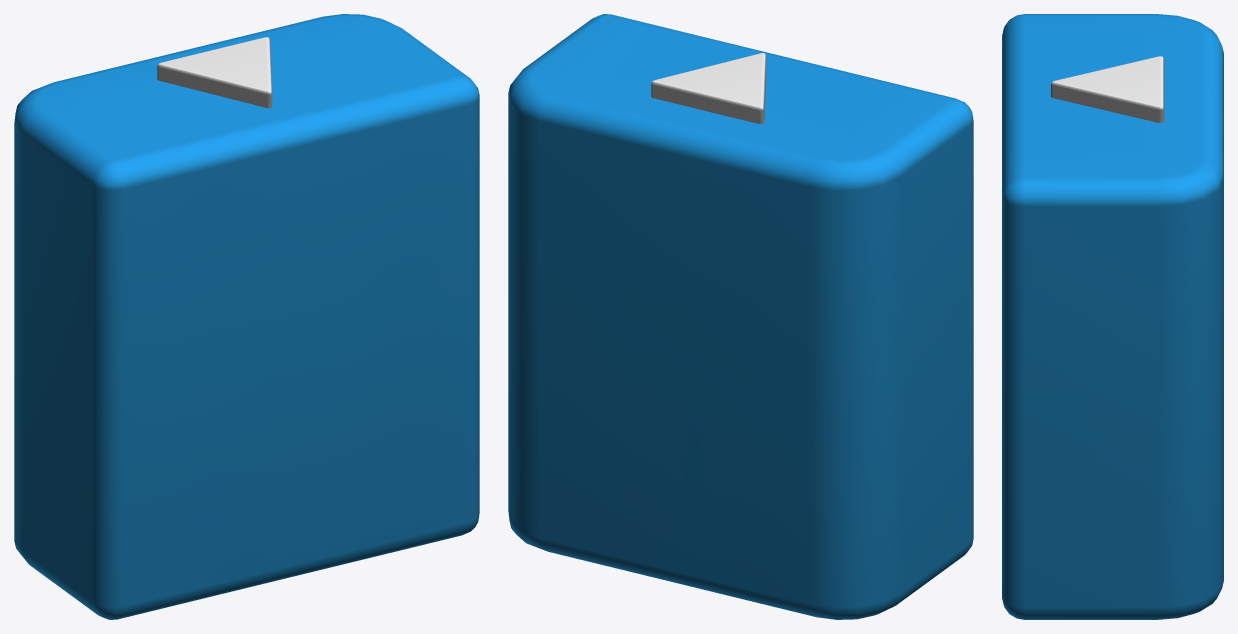
File: Blast_Blue.fbx
3 views of the same model, side by side, from view 1: azimuth 30°, elevation 25°; view 2: azimuth 150°, elevation 25°; view 3: azimuth 270°, elevation 25° (orthographic). The views are drawn at different scales.
Parts seen in each view (by area): view 1: Blast_Blue; view 2: Blast_Blue; view 3: Blast_Blue.
Part boxes in pixels (x1,y1,x2,y2): Blast_Blue: (14, 14, 479, 619); Blast_Blue: (508, 14, 973, 619); Blast_Blue: (1002, 14, 1223, 619).
Bounding box in the file's own units: 1.01 × 1.19 × 0.525.
1 material, 1 textured.
